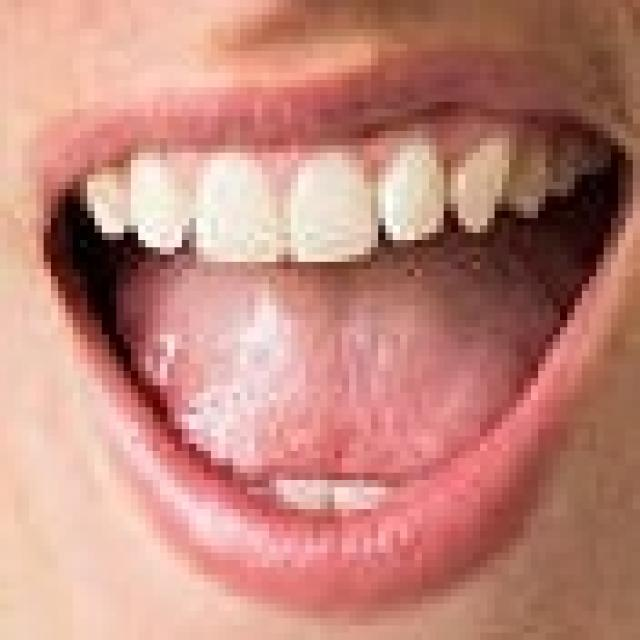open-mouth: (22, 44, 633, 612)
